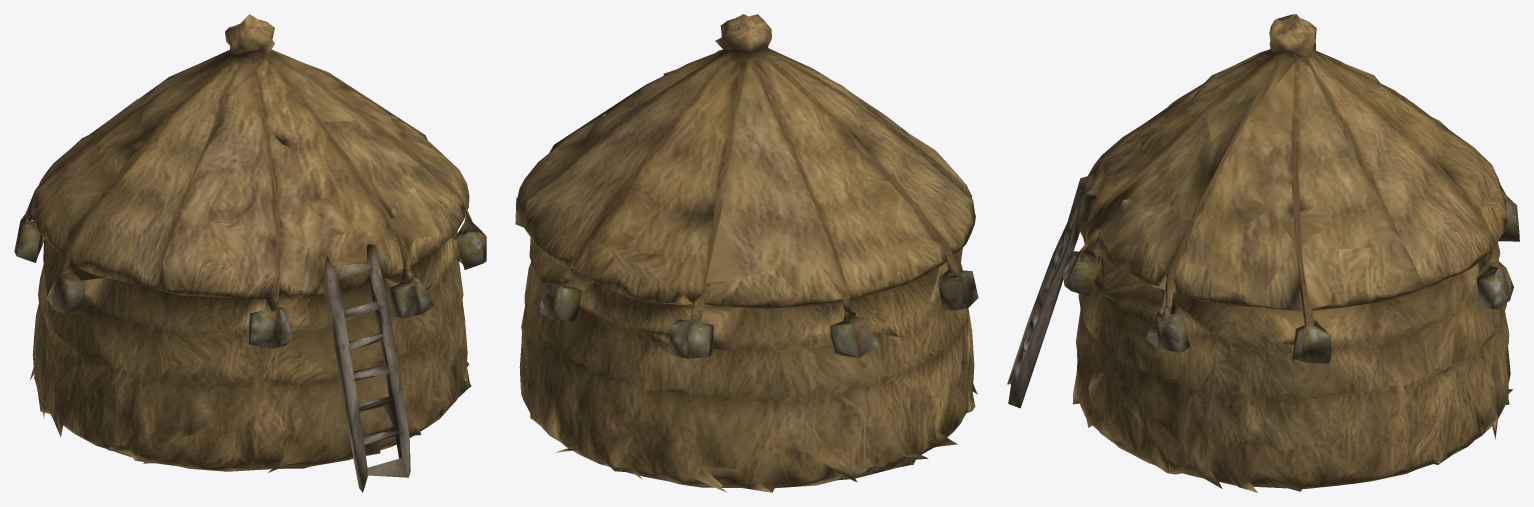
Rendered from land_rick.obj.
The picture shows the model from 3 angles, left to right: view 1: azimuth 30°, elevation 25°; view 2: azimuth 150°, elevation 25°; view 3: azimuth 270°, elevation 25°; orthographic projection. The views are drawn at different scales.
Parts seen in each view (by area): view 1: land_rick; view 2: land_rick; view 3: land_rick.
Part boxes in pixels (x1=…): land_rick: x1=14, y1=14, x2=486, y2=492; land_rick: x1=515, y1=14, x2=978, y2=492; land_rick: x1=1007, y1=14, x2=1519, y2=492.
Bounding box in the file's own units: 4.54 × 3.95 × 4.76.
1 material, 1 textured.
